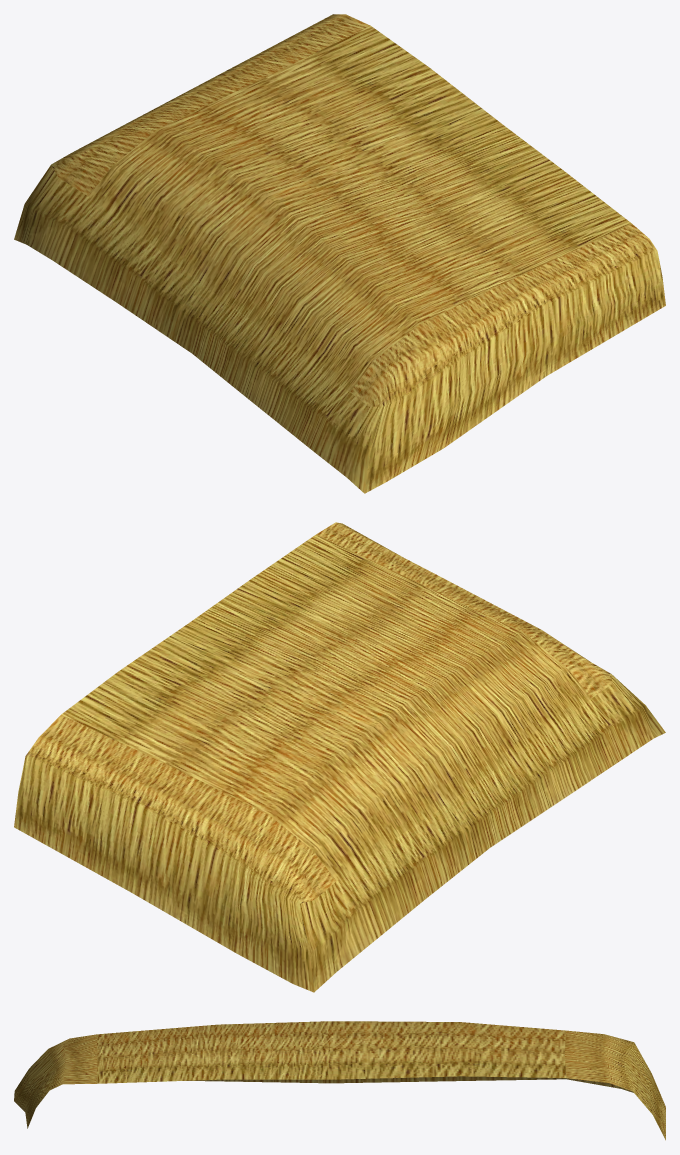
Rendered from HTOWN01_MILLROOF03.fbx.
The picture shows the model from 3 angles, top to bottom: view 1: azimuth 30°, elevation 25°; view 2: azimuth 150°, elevation 25°; view 3: azimuth 270°, elevation 25°; orthographic projection. The views are drawn at different scales.
Visible parts, largest first — view 1: HTOWN01_MILLROOF03; view 2: HTOWN01_MILLROOF03; view 3: HTOWN01_MILLROOF03.
Boxes of the visible parts, x1,y1,x2,y2 form: HTOWN01_MILLROOF03: [14, 14, 665, 493]; HTOWN01_MILLROOF03: [14, 522, 665, 992]; HTOWN01_MILLROOF03: [14, 1021, 665, 1140].
Bounding box in the file's own units: 43257 × 22825 × 85348.
4 materials, 4 textured.
